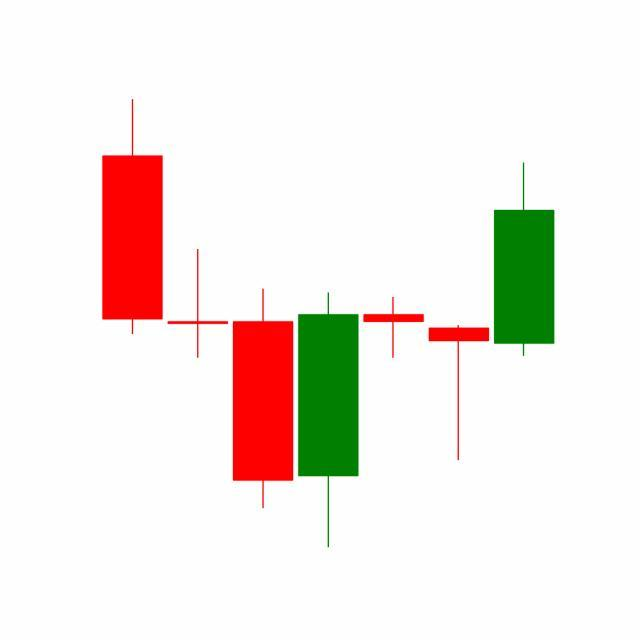Hikkake Pattern: (229, 158, 555, 549)
